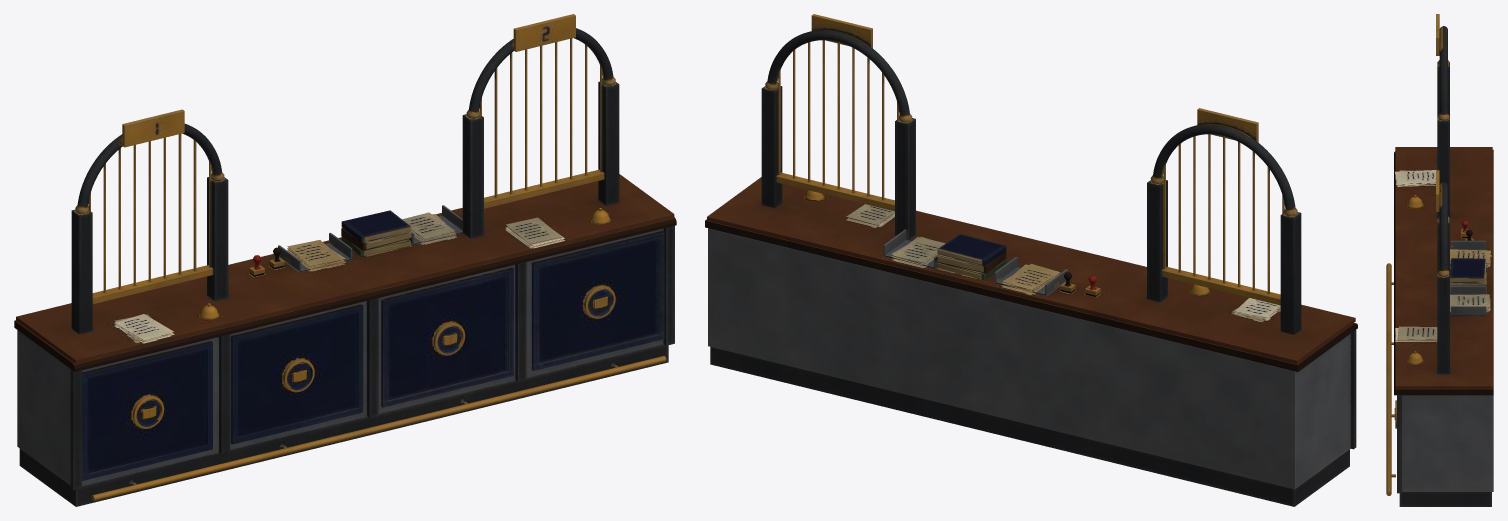
The model's file is registrar_counter.glb.
The picture shows the model from 3 angles, left to right: view 1: azimuth 30°, elevation 25°; view 2: azimuth 150°, elevation 25°; view 3: azimuth 270°, elevation 25°; orthographic projection. The views are drawn at different scales.
Visible parts, largest first — view 1: registrar_counter; view 2: registrar_counter; view 3: registrar_counter.
Boxes of the visible parts, box(x1,y1,x2,y2) form: registrar_counter: box(14, 14, 676, 506); registrar_counter: box(705, 14, 1357, 506); registrar_counter: box(1386, 14, 1493, 506).
Bounding box in the file's own units: 4 × 2.21 × 0.753.
2 materials, 2 textured.
